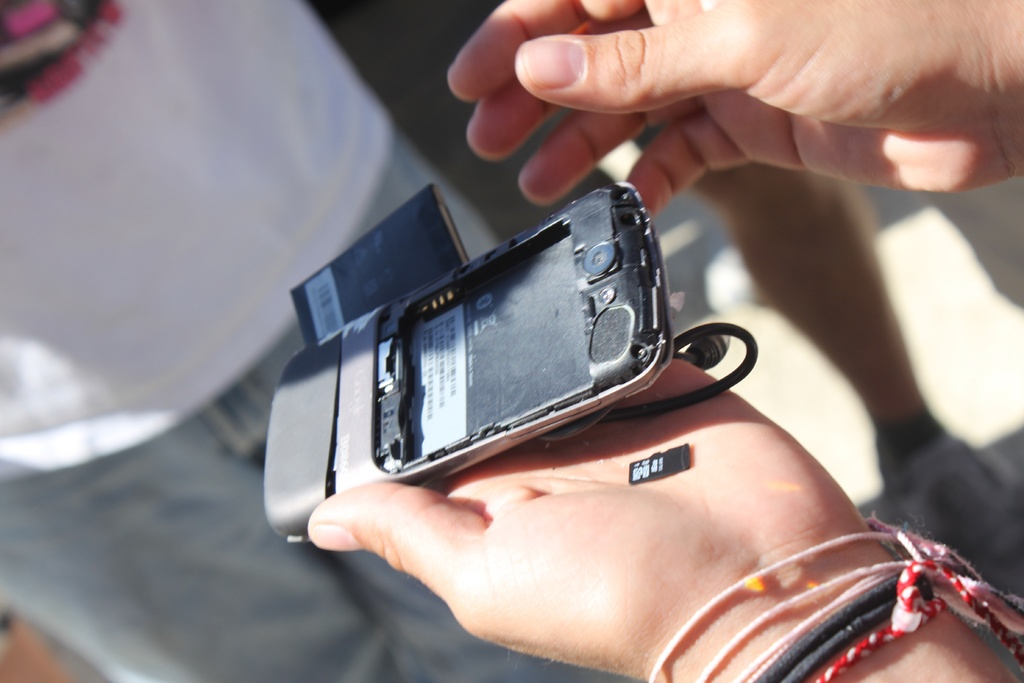Mobile-phone: (260, 177, 675, 544)
